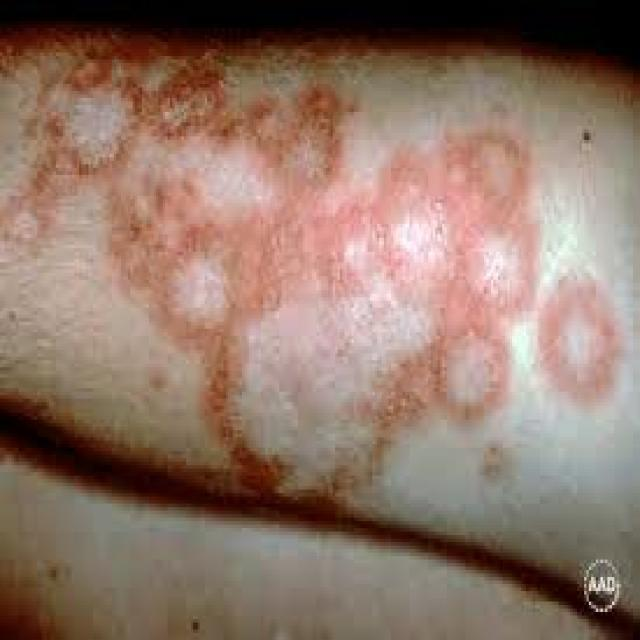Eczema: (37, 47, 628, 481)
